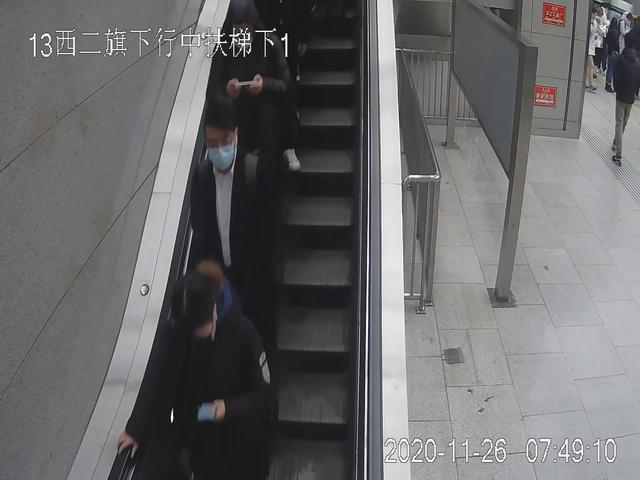person: (187, 105, 281, 406), (127, 278, 267, 480), (214, 1, 309, 176), (608, 42, 634, 166)
